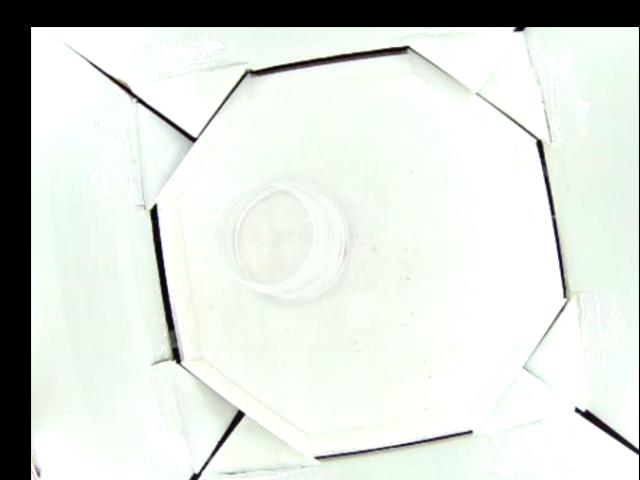Cup: (213, 180, 352, 300)
